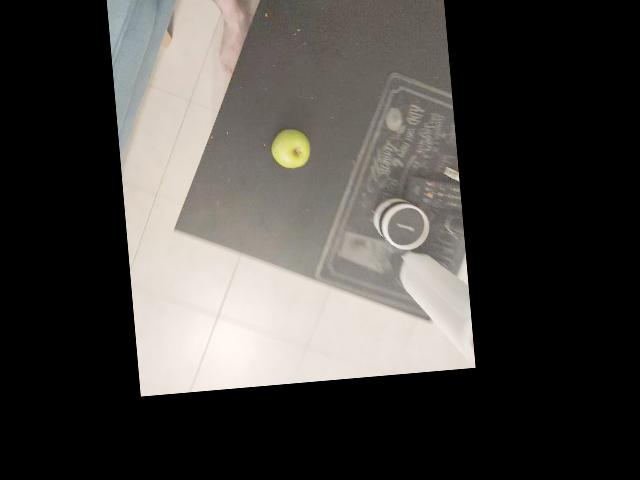apple: (189, 181, 252, 245)
